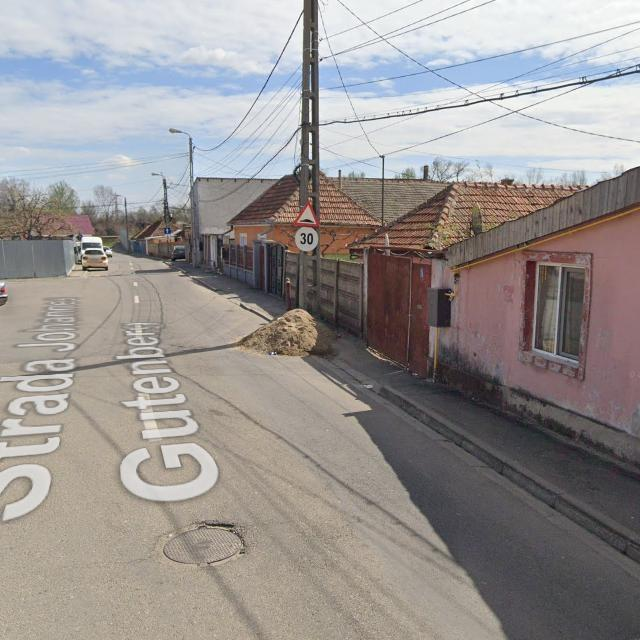forb_speed_over_30: (294, 227, 319, 252)
